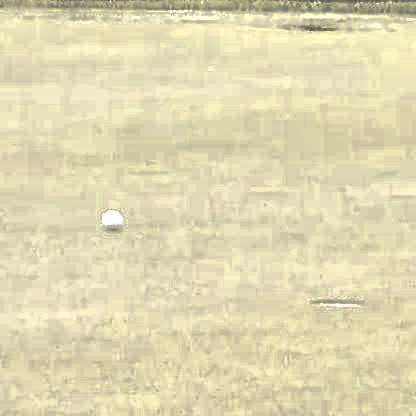golfball: (97, 206, 120, 229)
